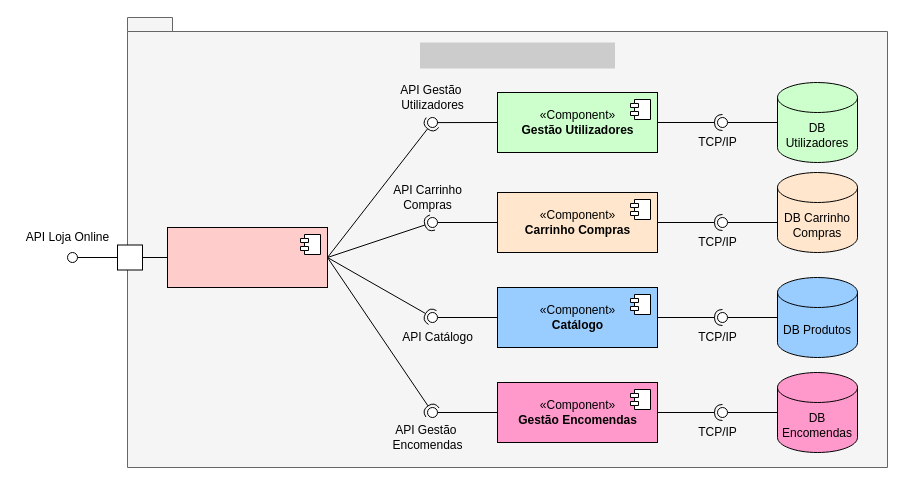
The diagram is 905 pixels wide and 485 high, and some of its shapes have lost their labels. The centre of each missing label's shape, as x and y in pixels:
Online Shop System: pixel 517 55
«Component» API Loja Online: pixel 247 257
